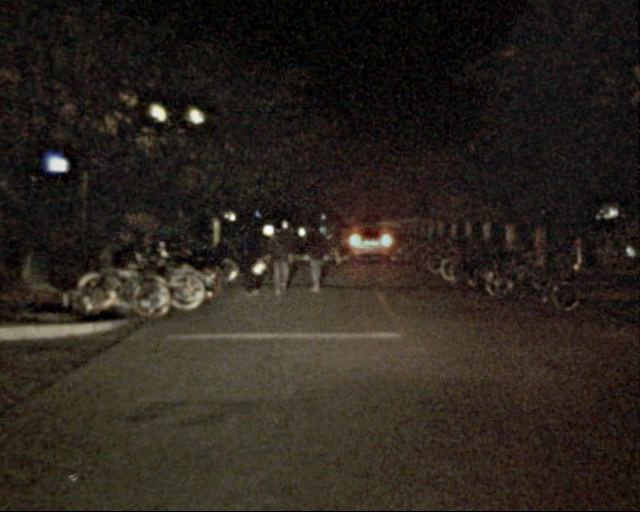person: (234, 216, 264, 298), (296, 222, 326, 296), (266, 221, 293, 298), (329, 224, 345, 263)
